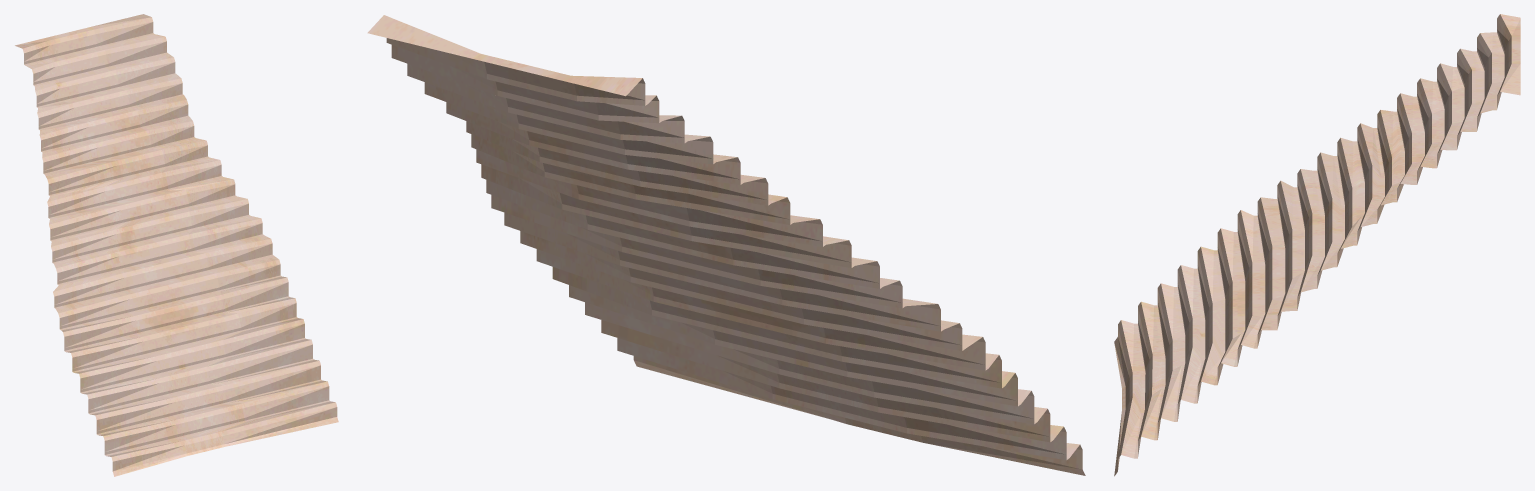
File: sandleafbase00.dae
3 renders of one model, left to right at view 1: azimuth 30°, elevation 25°; view 2: azimuth 150°, elevation 25°; view 3: azimuth 270°, elevation 25°, orthographic. The views are drawn at different scales.
Visible parts, largest first — view 1: m0; view 2: m0; view 3: m0.
Part boxes in pixels (x1,y1,x2,y2): m0: (15,14,338,476); m0: (367,15,1085,475); m0: (1114,14,1520,476).
Size of the model in its own units: 801 by 1015 by 1019.
Materials: 1 (1 with a texture image).
